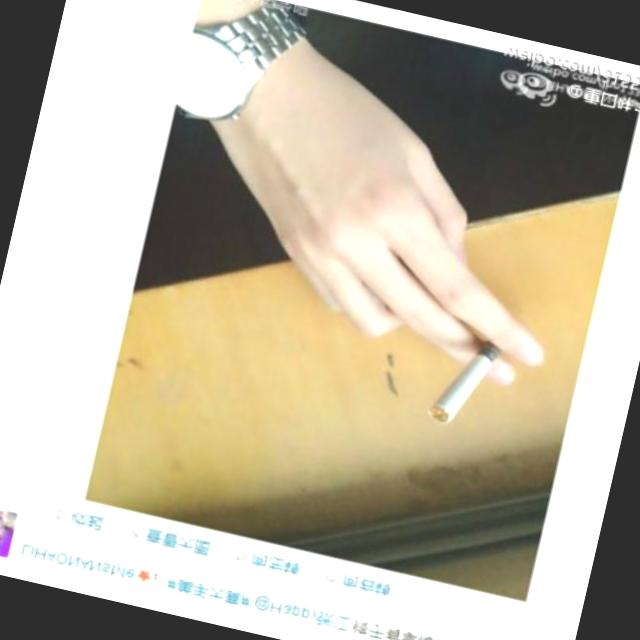cigarette: (416, 326, 508, 439)
